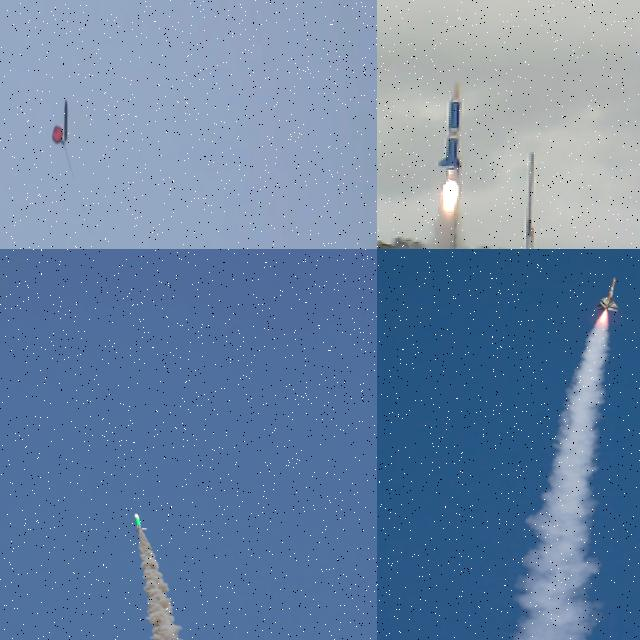Rocket: (436, 81, 464, 170), (594, 277, 618, 312), (134, 513, 148, 533)
